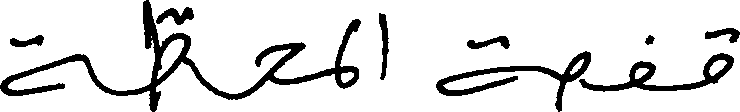ا: (375, 10, 389, 80)
ة: (0, 32, 88, 96), (435, 33, 520, 96)
ح: (251, 39, 304, 93)
ص: (560, 49, 591, 110)
ط: (142, 0, 190, 110)
ف: (627, 33, 657, 92)
ق: (702, 26, 739, 87)
ل: (331, 17, 360, 70)
م: (327, 60, 365, 93)
